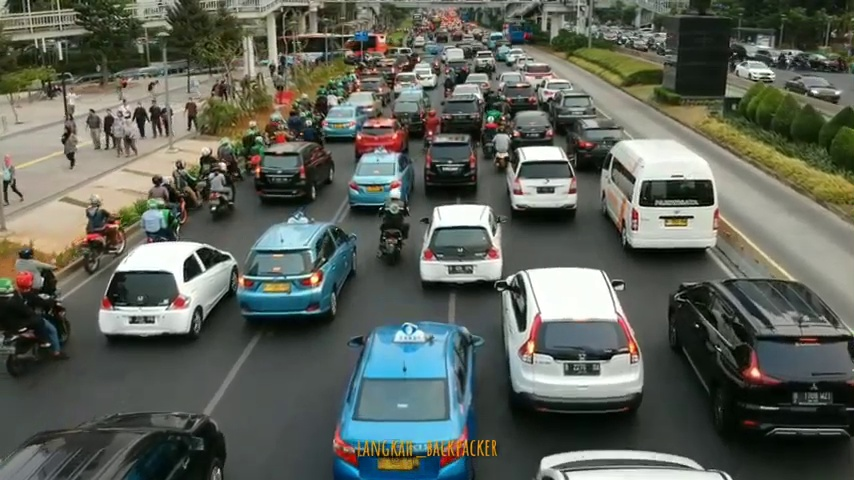car: (664, 275, 854, 446), (331, 323, 482, 478), (498, 272, 643, 424), (1, 412, 227, 480), (102, 236, 235, 346), (602, 136, 720, 255), (239, 212, 357, 329), (424, 201, 502, 289), (255, 138, 335, 205), (506, 147, 581, 216), (348, 152, 415, 212), (427, 132, 479, 200), (568, 118, 623, 168), (356, 116, 407, 161), (550, 90, 597, 138), (442, 93, 483, 138), (511, 110, 556, 149), (323, 105, 364, 141), (502, 83, 539, 116), (344, 88, 382, 120), (392, 99, 424, 133), (502, 18, 527, 46), (476, 52, 497, 73)
motorbike: (1, 278, 74, 379), (76, 195, 127, 276), (14, 246, 63, 319), (379, 190, 409, 262), (140, 201, 182, 251), (206, 163, 240, 219), (150, 175, 186, 227), (172, 160, 203, 211), (216, 137, 245, 181), (198, 146, 220, 199), (495, 123, 512, 174), (243, 119, 259, 165), (483, 117, 499, 161), (424, 110, 440, 152)
